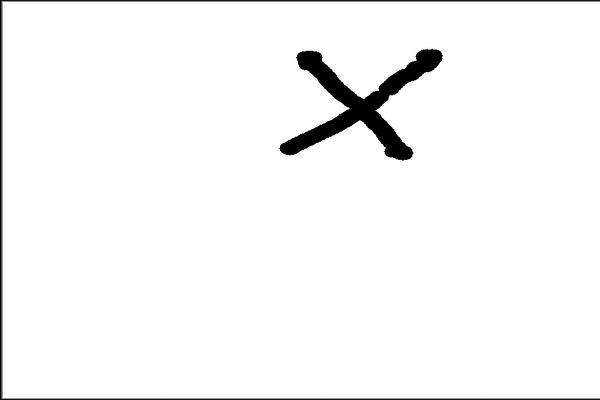X: (259, 31, 464, 169)
